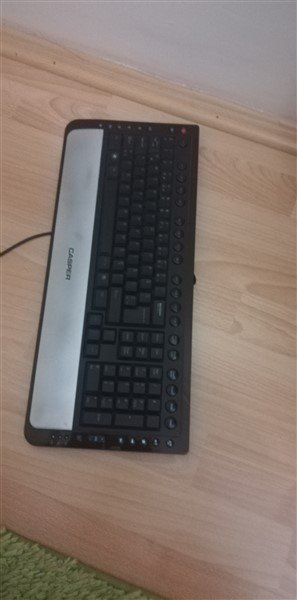klavye: (26, 121, 204, 457)
